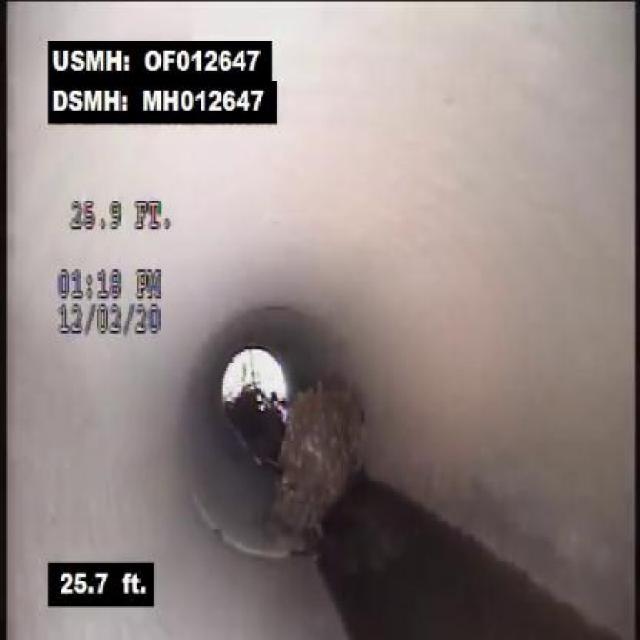Obstacle: (249, 362, 389, 558)
